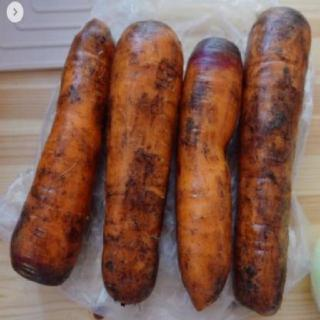carrot: (16, 16, 108, 296), (102, 18, 180, 304), (241, 6, 311, 316), (180, 38, 239, 312)
